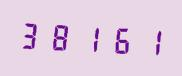eight: (47, 17, 75, 55)
one: (76, 19, 104, 56), (134, 22, 162, 59)
six: (105, 20, 133, 58)
three: (18, 16, 46, 53)
